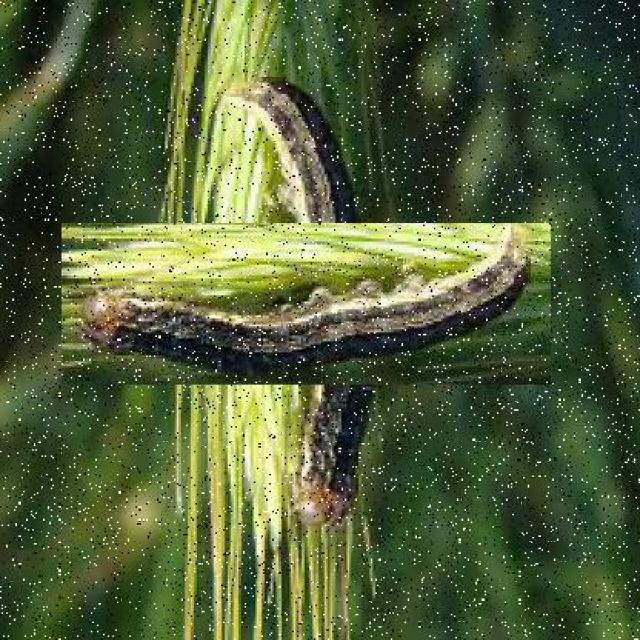Plaga: (143, 140, 471, 468)
